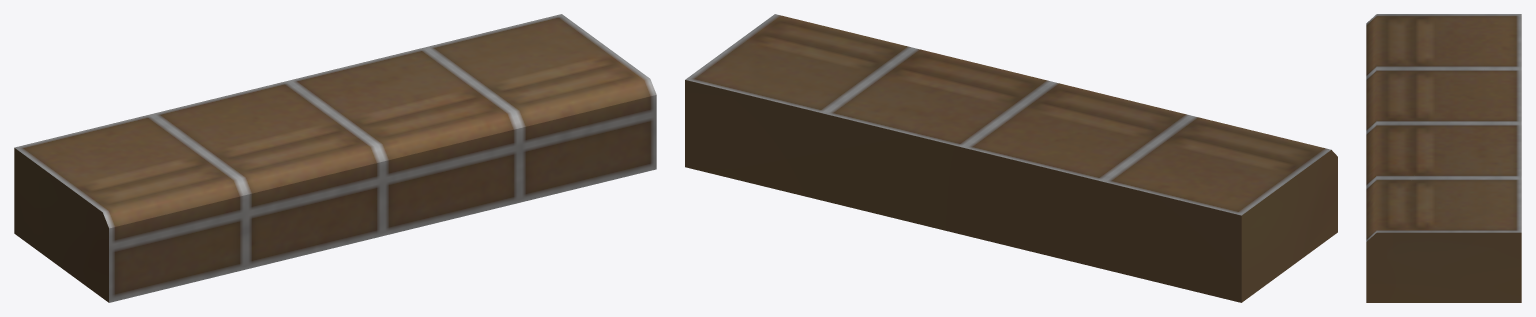
File: set_floor_02b_03_onestep.fbx
3 views of the same model, side by side, from view 1: azimuth 30°, elevation 25°; view 2: azimuth 150°, elevation 25°; view 3: azimuth 270°, elevation 25° (orthographic). The views are drawn at different scales.
Parts seen in each view (by area): view 1: set_floor_02b_03_onestep; view 2: set_floor_02b_03_onestep; view 3: set_floor_02b_03_onestep.
Part boxes in pixels (<box>): set_floor_02b_03_onestep: <box>14,14,656,302</box>; set_floor_02b_03_onestep: <box>685,14,1337,302</box>; set_floor_02b_03_onestep: <box>1366,14,1521,302</box>.
Size of the model in its own units: 100 by 15 by 30.
